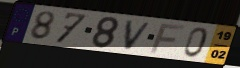0: (183, 26, 210, 58)
7: (55, 12, 88, 45)
8: (91, 16, 120, 49), (30, 10, 57, 41)
F: (148, 23, 187, 55)
V: (123, 19, 154, 51)
